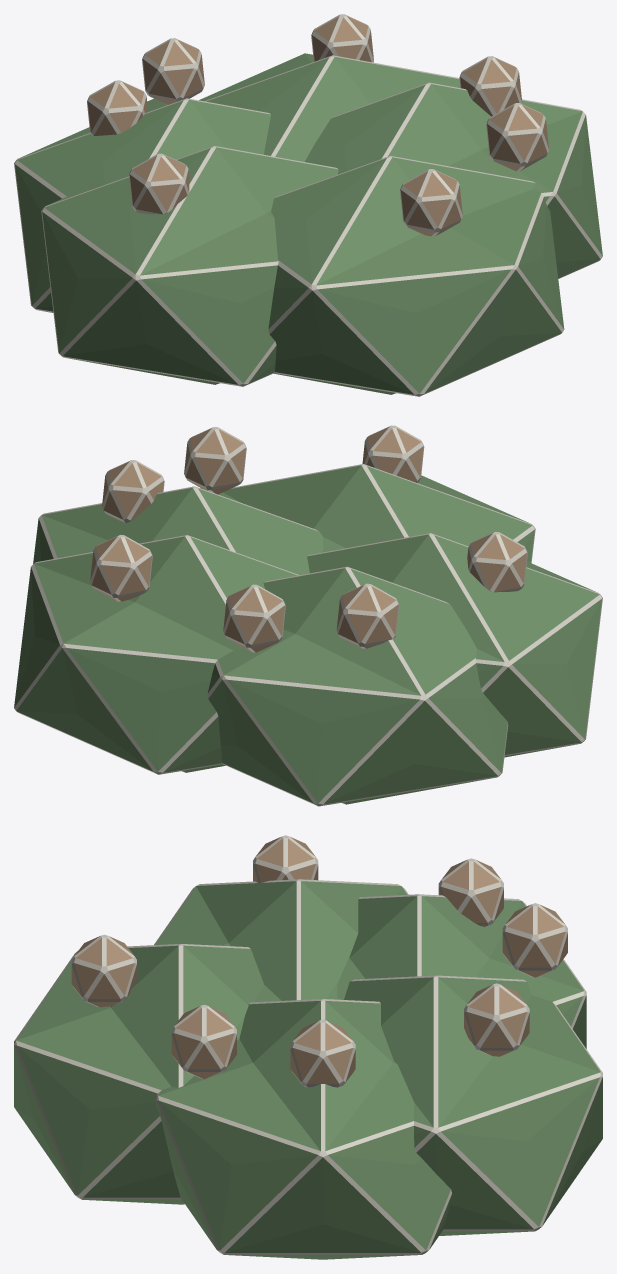
File: foliage_shrub_flower.glb
3 renders of one model, top to bottom at view 1: azimuth 30°, elevation 25°; view 2: azimuth 150°, elevation 25°; view 3: azimuth 270°, elevation 25°, orthographic. The views are drawn at different scales.
Visible parts, largest first — view 1: scenery_leaf, scenery_flower; view 2: scenery_leaf, scenery_flower; view 3: scenery_leaf, scenery_flower.
Part boxes in pixels (box(x1,y1,x2,y2)): scenery_leaf: box(14, 53, 602, 396); scenery_flower: box(87, 14, 548, 236); scenery_leaf: box(14, 464, 602, 806); scenery_flower: box(90, 425, 527, 652); scenery_leaf: box(14, 879, 602, 1259); scenery_flower: box(71, 835, 567, 1087).
Bounding box in the file's own units: 3.08 × 1.36 × 2.69.
